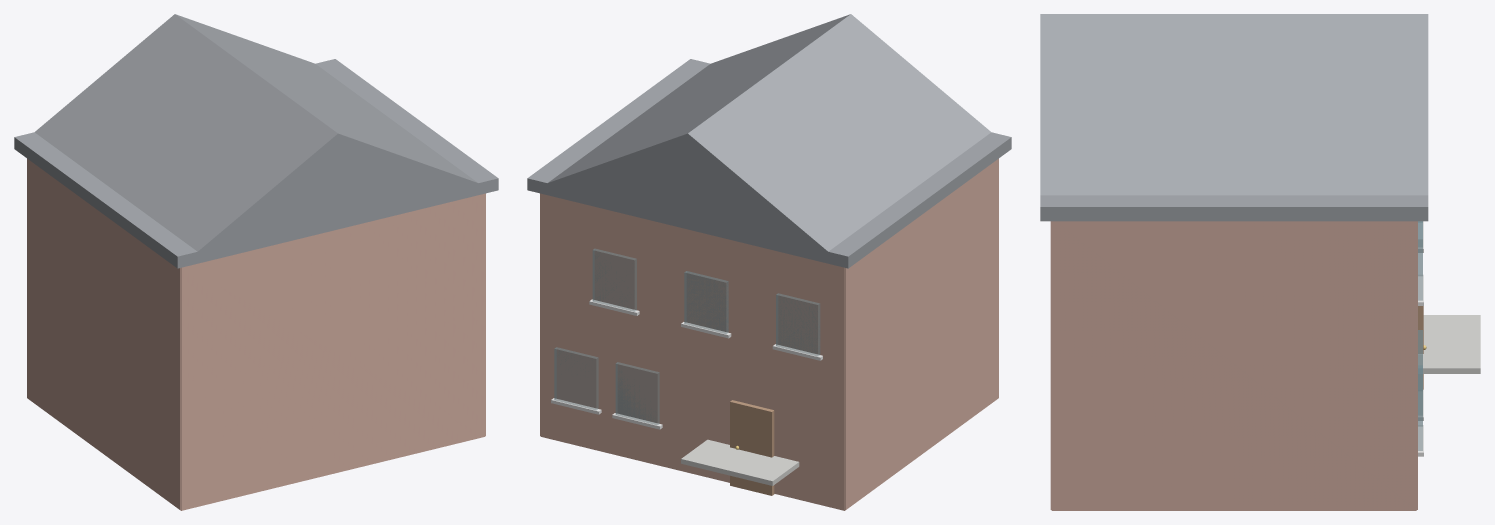
The model's file is house_facade.glb.
3 views of the same model, side by side, from view 1: azimuth 30°, elevation 25°; view 2: azimuth 150°, elevation 25°; view 3: azimuth 270°, elevation 25° (orthographic). The views are drawn at different scales.
Parts seen in each view (by area): view 1: house_facade; view 2: house_facade; view 3: house_facade.
Boxes of the visible parts, bbox=[...] form: house_facade: bbox=[14, 14, 498, 510]; house_facade: bbox=[527, 14, 1011, 510]; house_facade: bbox=[1040, 14, 1480, 510].
Size of the model in its own units: 8.4 by 8.6 by 8.4.
